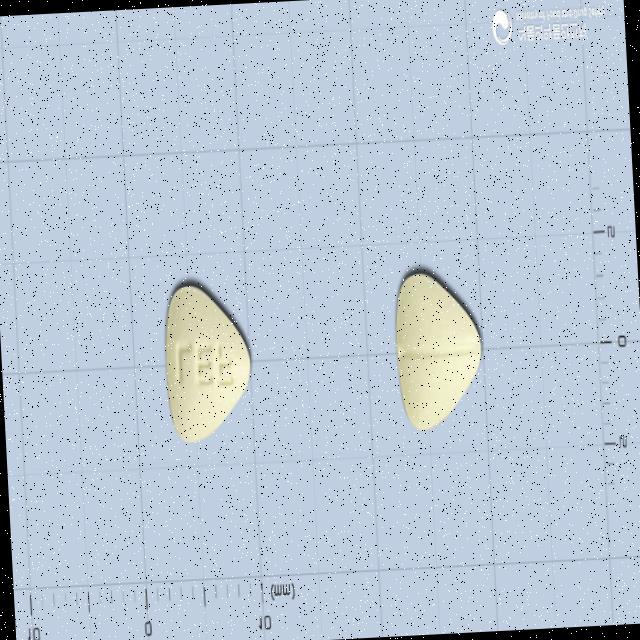Hanlim Leflunomide: (162, 280, 256, 443)
